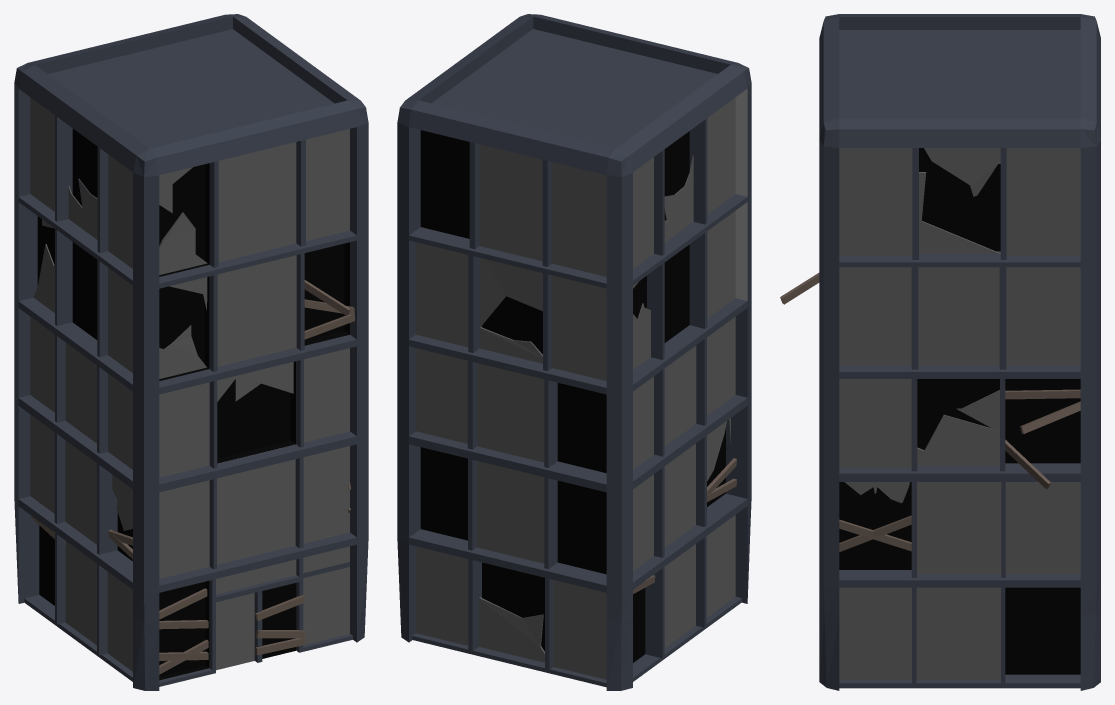
Rendered from BlueOfficeBuildingUNITY.fbx.
The picture shows the model from 3 angles, left to right: view 1: azimuth 30°, elevation 25°; view 2: azimuth 150°, elevation 25°; view 3: azimuth 270°, elevation 25°; orthographic projection. The views are drawn at different scales.
Visible parts, largest first — view 1: pasted__pCube8; view 2: pasted__pCube8; view 3: pasted__pCube8.
Part boxes in pixels (<box>): pasted__pCube8: <box>14,14,368,690</box>; pasted__pCube8: <box>397,14,751,690</box>; pasted__pCube8: <box>780,14,1100,690</box>.
Bounding box in the file's own units: 16.24 × 33.55 × 17.31.
